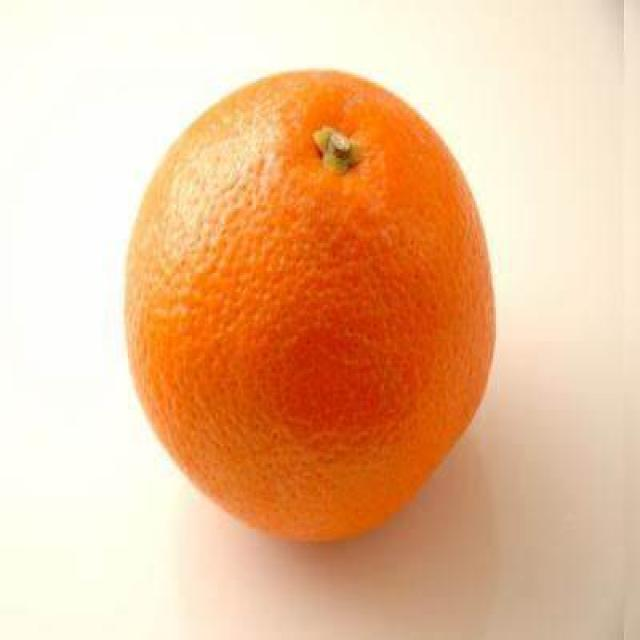Orange: (124, 68, 500, 549)
